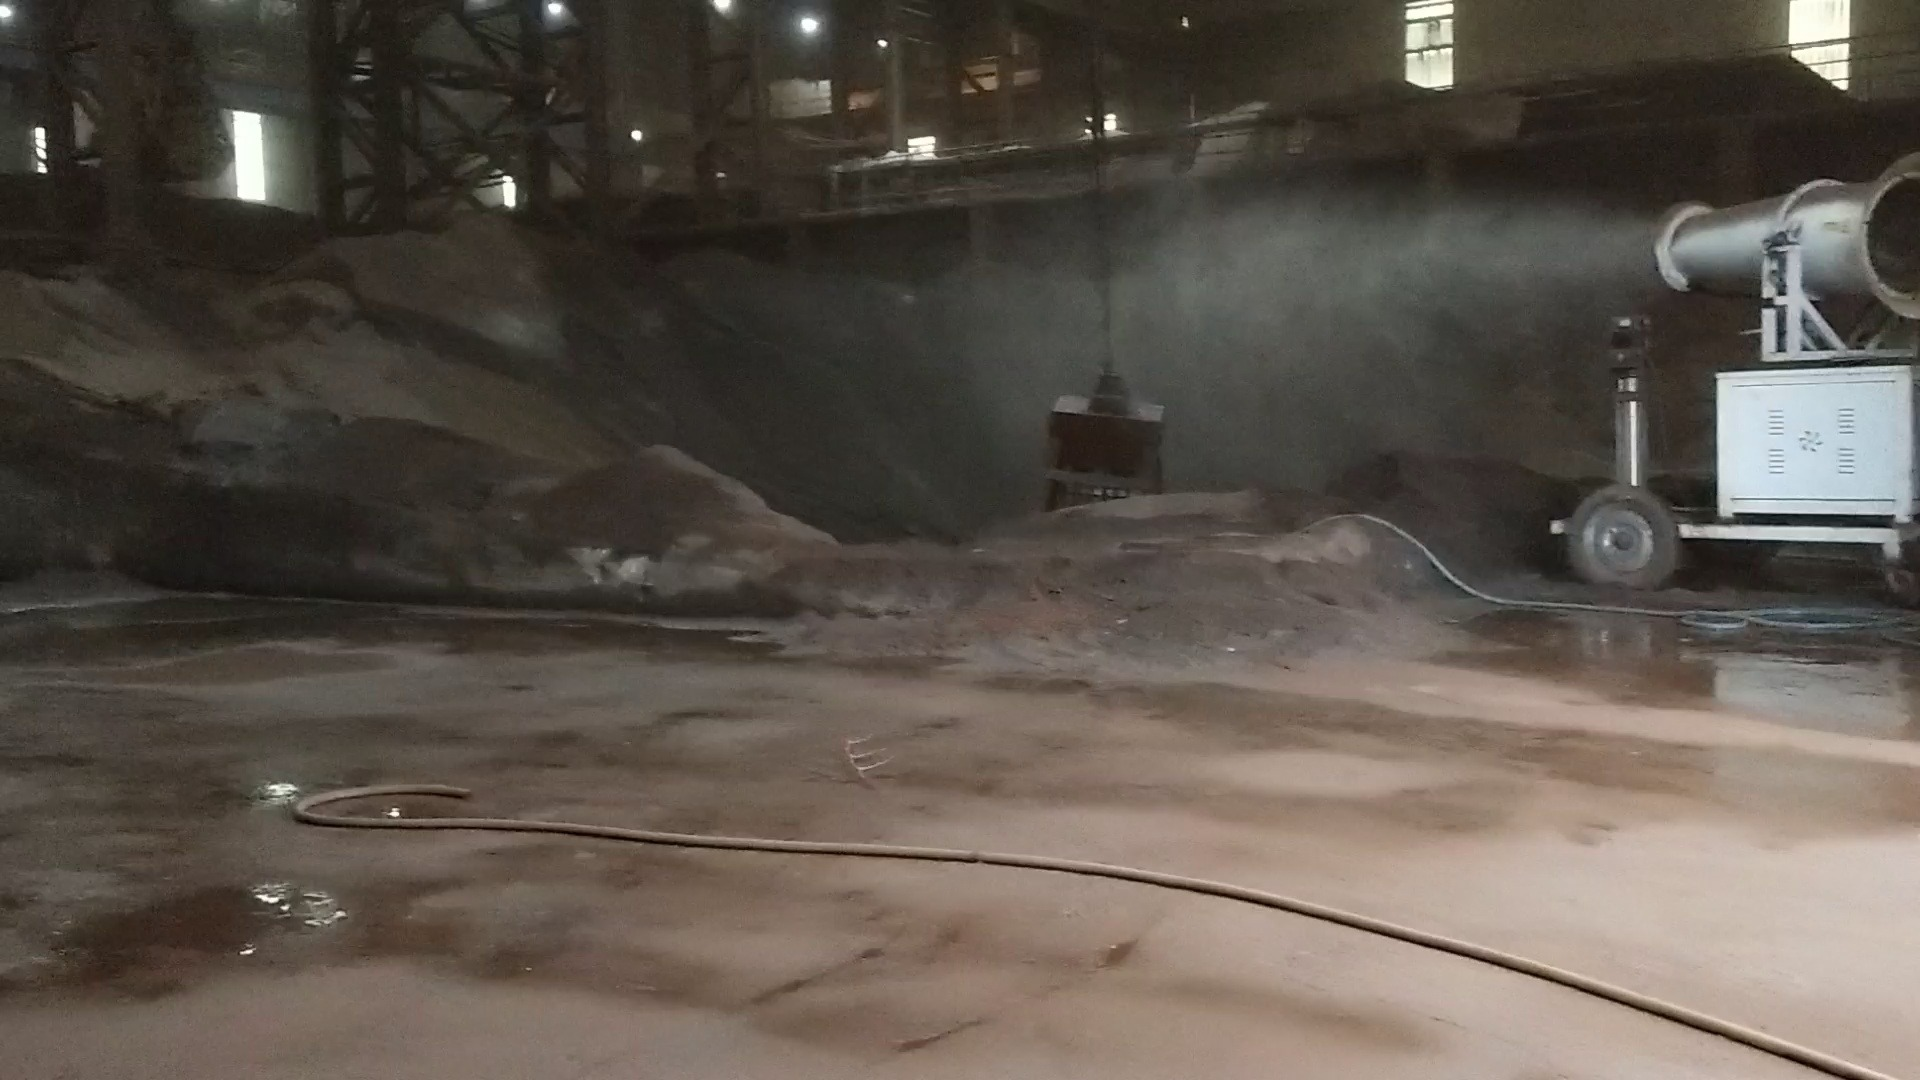dust: (1106, 224, 1614, 338)
grab: (1025, 357, 1174, 522)
